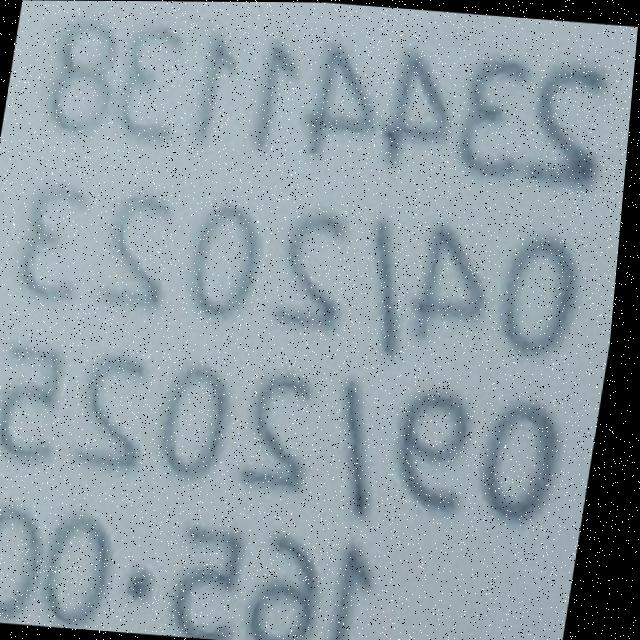sentence: (5, 350, 566, 519), (28, 188, 580, 356), (51, 24, 608, 185), (0, 507, 383, 640)
